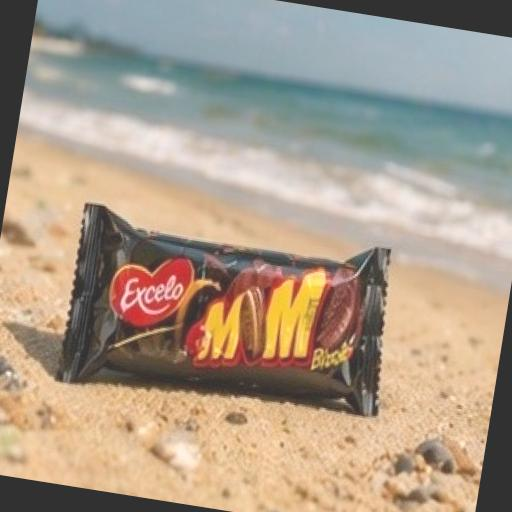MOMO: (0, 124, 453, 493)
